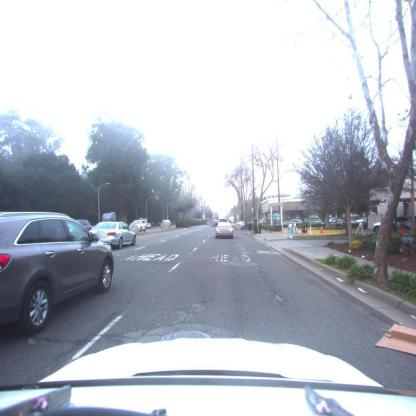car: (0, 212, 117, 337), (90, 222, 137, 251), (215, 221, 234, 239), (130, 220, 149, 233), (159, 219, 173, 230)
sign: (288, 223, 296, 236), (304, 218, 318, 224)
